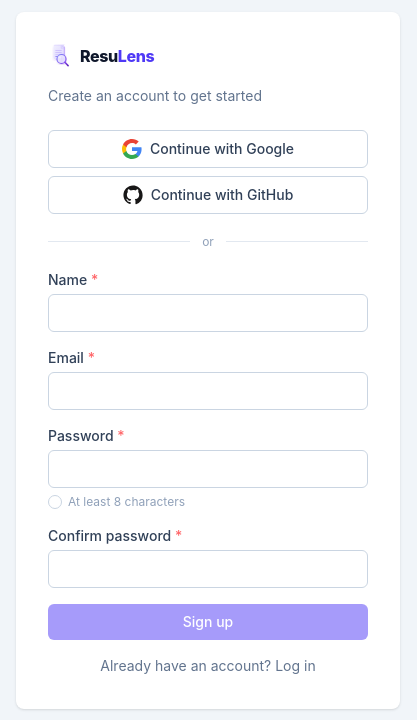
Test case: AuthPage — signup validation › shows an inline mismatch error only after the confirm-password field is touched
This screenshot has width=417, height=720.
Type "longenough1" into the password field labelled "Password *" at [208, 468], box [48,450,368,488]
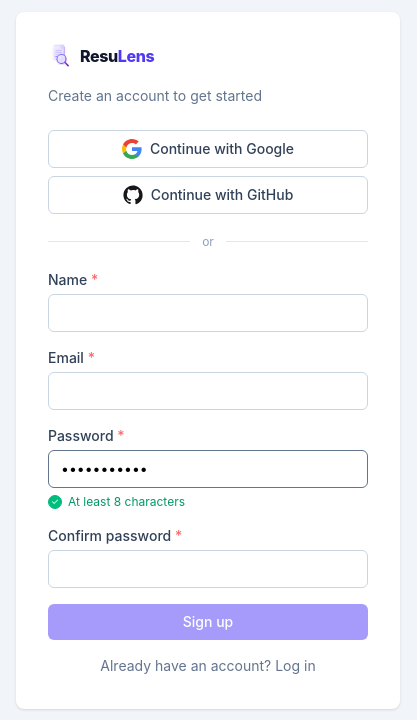
Expected: the text "Passwords do not match." is not shown
Type "different1" into the password field labelled "Confirm password *" at [208, 568], box [48,550,368,588]
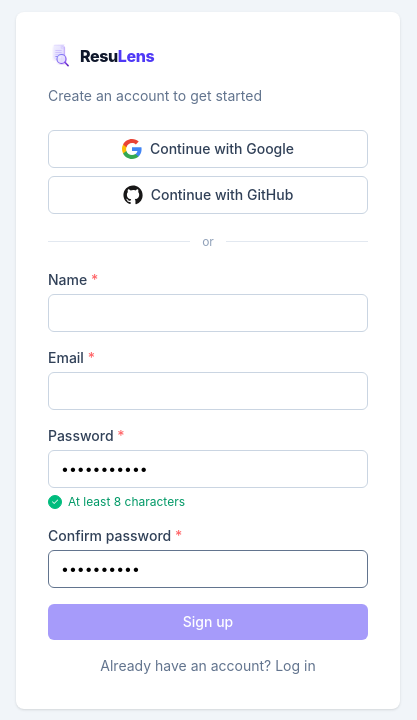
Press Tab
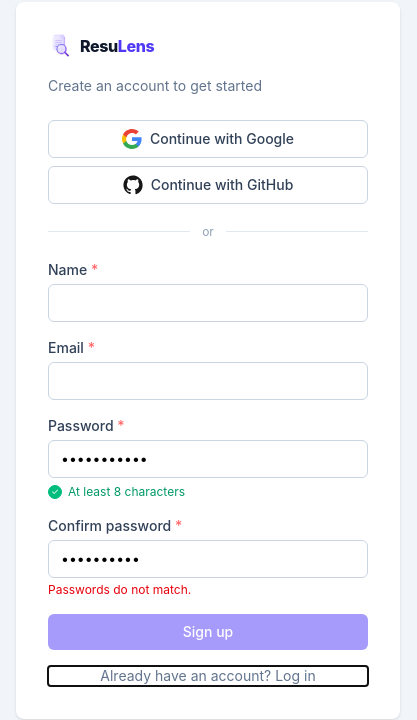
Expected: the text "Passwords do not match." is shown, [48,582,191,596]
